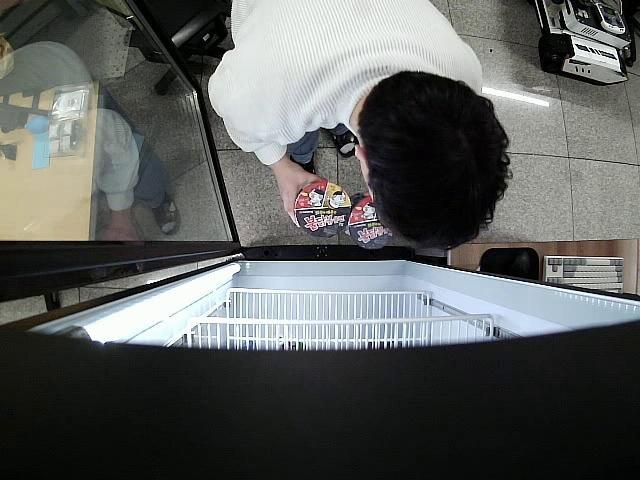07_buldak_L: (296, 182, 351, 241)
